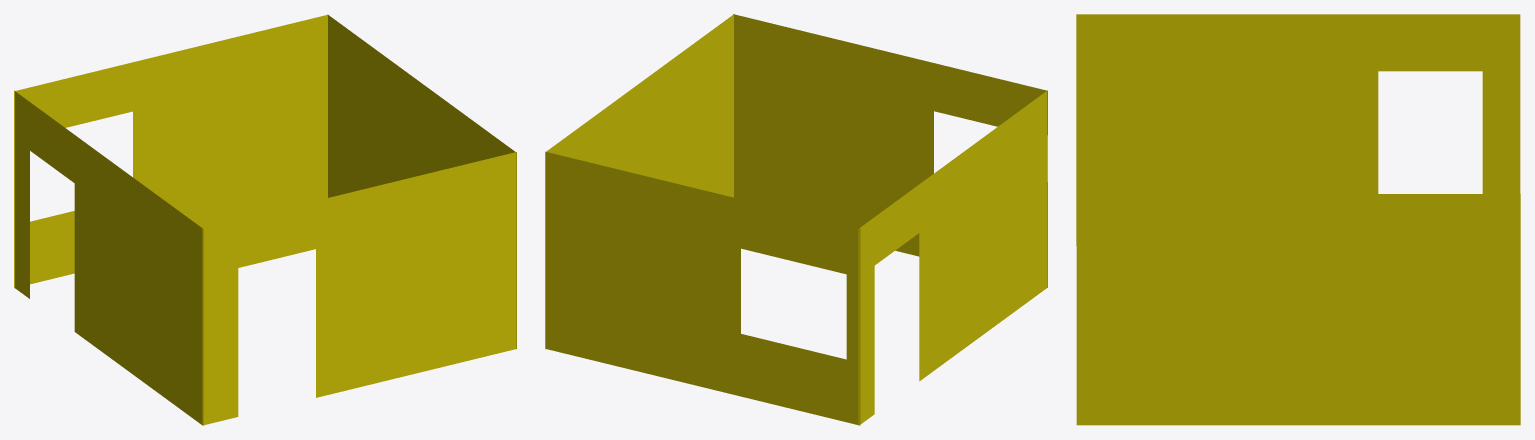
3 views of the same model, side by side, from view 1: azimuth 30°, elevation 25°; view 2: azimuth 150°, elevation 25°; view 3: azimuth 270°, elevation 25° (orthographic). The views are drawn at different scales.
Parts seen in each view (by area): view 1: BH05_WP_04; view 2: BH05_WP_04; view 3: BH05_WP_04.
Boxes of the visible parts, bbox=[...] form: BH05_WP_04: bbox=[14, 14, 516, 425]; BH05_WP_04: bbox=[545, 14, 1047, 425]; BH05_WP_04: bbox=[1076, 14, 1520, 425].
Bounding box in the file's own units: 491 × 294 × 511.
